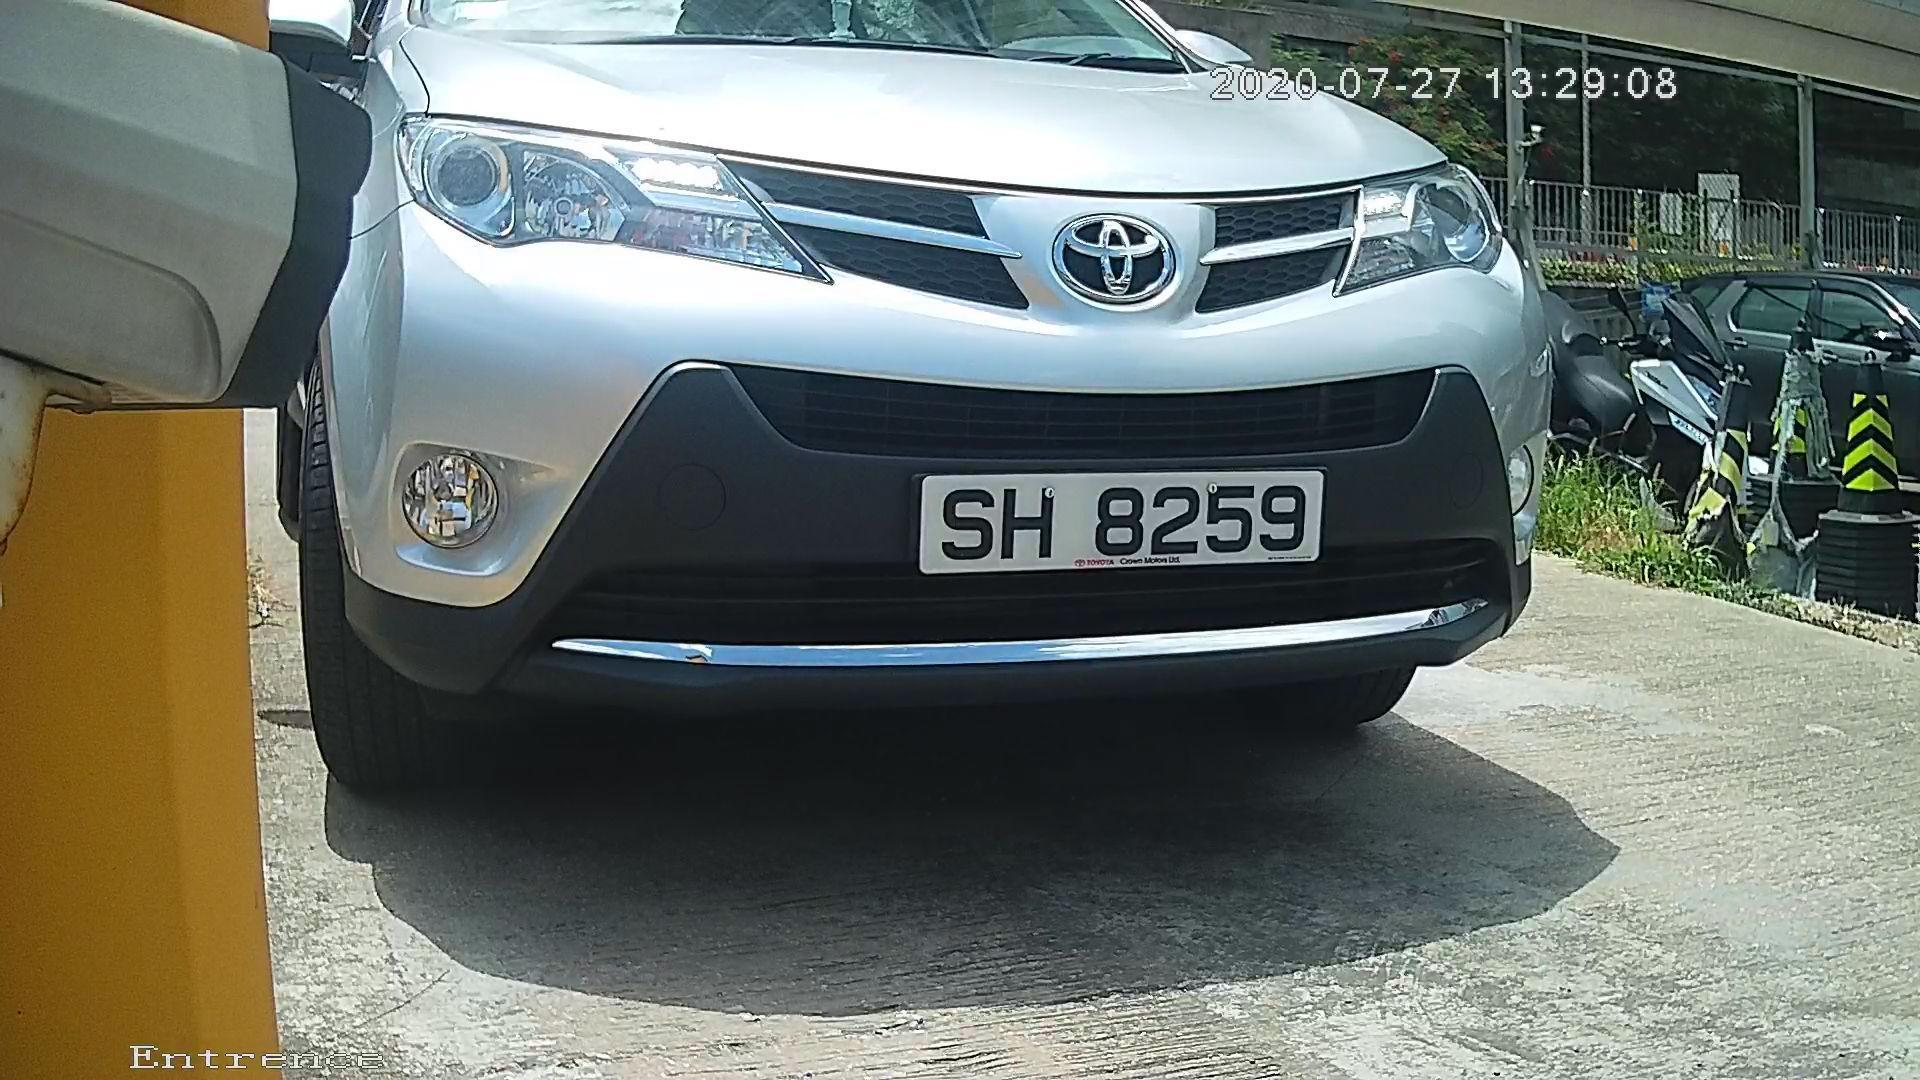License Plate: (875, 459, 1355, 584)
